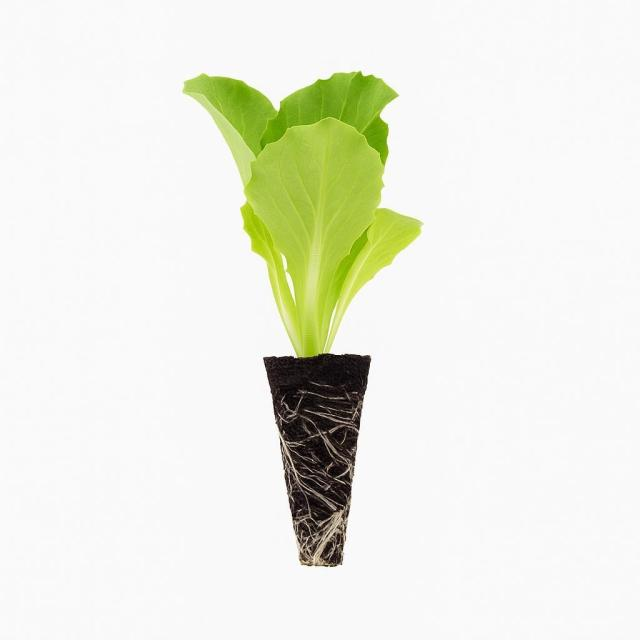verde: (183, 71, 421, 356)
